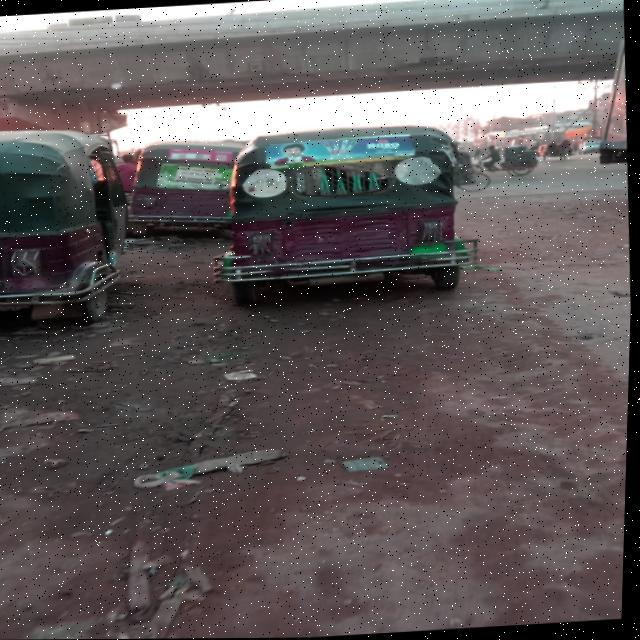cng: (189, 103, 507, 329)
